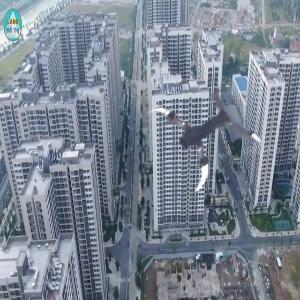drone: (144, 83, 253, 192)
